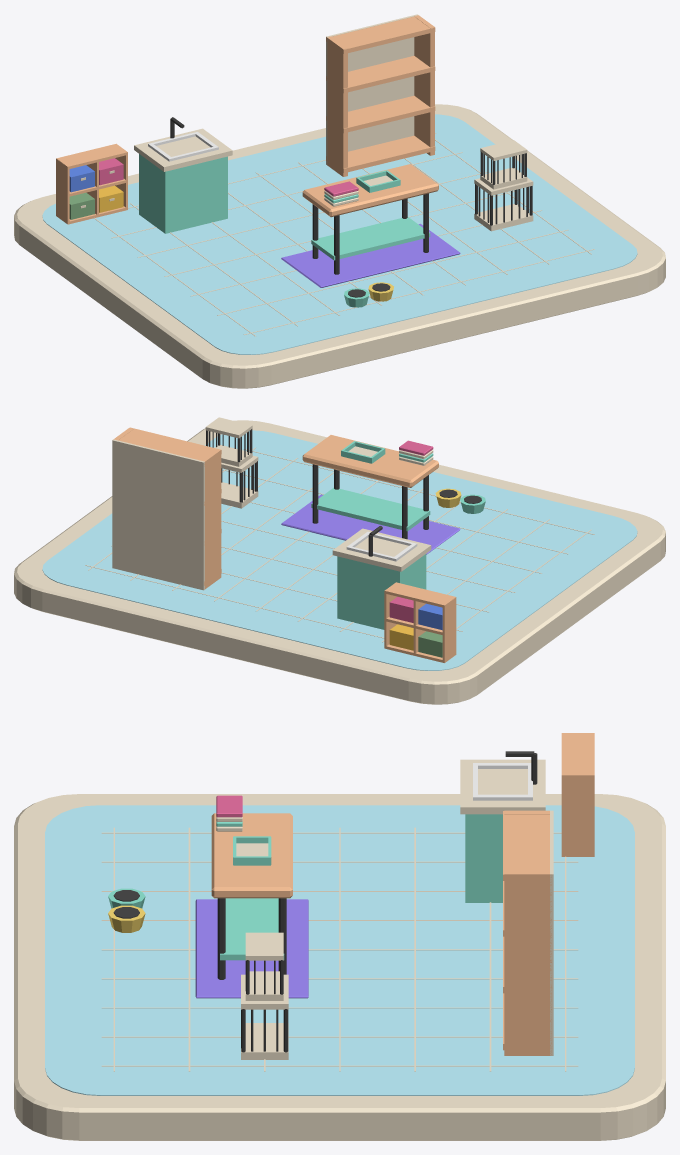
3 renders of one model, top to bottom at view 1: azimuth 30°, elevation 25°; view 2: azimuth 150°, elevation 25°; view 3: azimuth 270°, elevation 25°, orthographic. The views are drawn at different scales.
Parts seen in each view (by area): view 1: COM-02 Floor Surface, COM-01 Rounded Base Direct, Cabinet, Back, Rug, Worktop, Side, Lower shelf, Counter, Side.001, Shelf.003, Shelf.001 (+11 smaller); view 2: COM-02 Floor Surface, COM-01 Rounded Base Direct, Back, Cabinet, Worktop, Rug, Lower shelf, Side, Counter, Shelf.003, Cubbies shelf.002, Cubbies divider (+7 smaller); view 3: COM-02 Floor Surface, COM-01 Rounded Base Direct, Side.001, Rug, Worktop, Counter, Cabinet, Shelf.003, Cubbies divider.002, Lower shelf, Cubbies shelf.002, Floor (+14 smaller).
Part boxes in pixels (x1,y1,x2,y2): COM-02 Floor Surface: (42,114,637,354); COM-01 Rounded Base Direct: (14,104,665,388); Cabinet: (139,154,227,233); Back: (326,14,418,164); Rug: (281,223,460,287); Worktop: (302,164,438,217); Side: (327,36,347,176); Lower shelf: (311,217,430,260); Counter: (134,128,232,171); Side.001: (414,15,434,155); Shelf.003: (326,16,435,53); Shelf.001: (326,95,435,133); COM-02 Floor Surface: (42,430,637,670); COM-01 Rounded Base Direct: (14,420,665,704); Back: (112,439,204,590); Cabinet: (337,554,426,629); Worktop: (302,435,438,487); Rug: (281,494,460,554); Lower shelf: (311,487,430,531); Side: (201,449,221,589); Counter: (332,528,431,571); Shelf.003: (118,427,221,466); Cubbies shelf.002: (384,582,455,607); Cubbies divider: (442,597,456,662); COM-02 Floor Surface: (45,805,634,1095); COM-01 Rounded Base Direct: (14,794,665,1140); Side.001: (504,871,551,1055); Rug: (195,899,308,998); Worktop: (211,813,292,898); Counter: (460,759,545,814); Cabinet: (465,814,502,902); Shelf.003: (503,811,549,880); Cubbies divider.002: (561,775,594,856); Lower shelf: (220,898,284,960); Cubbies shelf.002: (561,733,594,774); Floor: (241,1023,288,1059).
Bounding box in the file's own units: 6 × 1.9 × 5.2.
Materials: 1 (1 with a texture image).
